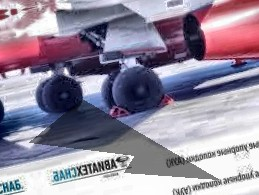chock: (105, 101, 130, 120), (153, 91, 177, 108)
wheel: (107, 61, 167, 118), (31, 70, 89, 120)
